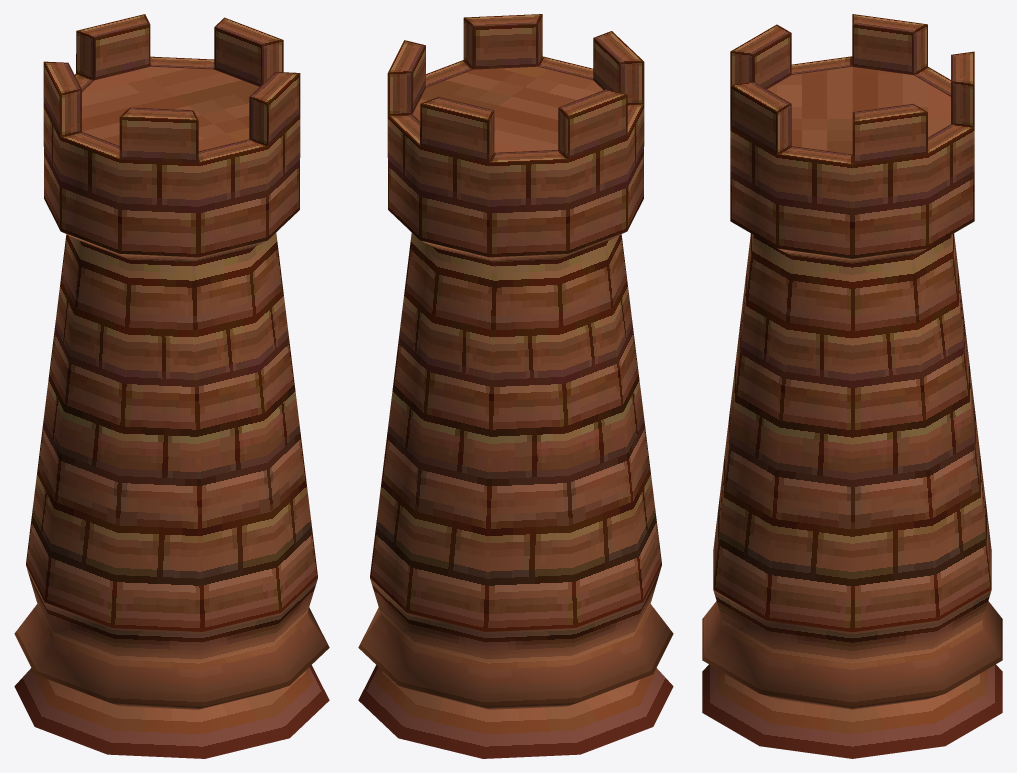
The model's file is rmk_chs_rook.dae.
The picture shows the model from 3 angles, left to right: view 1: azimuth 30°, elevation 25°; view 2: azimuth 150°, elevation 25°; view 3: azimuth 270°, elevation 25°; orthographic projection.
Visible parts, largest first — view 1: rmk_chs_rook; view 2: rmk_chs_rook; view 3: rmk_chs_rook.
Part boxes in pixels (x1,y1,x2,y2): rmk_chs_rook: (14,14,329,758); rmk_chs_rook: (358,14,673,758); rmk_chs_rook: (702,14,1002,758).
Size of the model in its own units: 25.6 by 55.78 by 24.35.
1 material, 1 textured.
